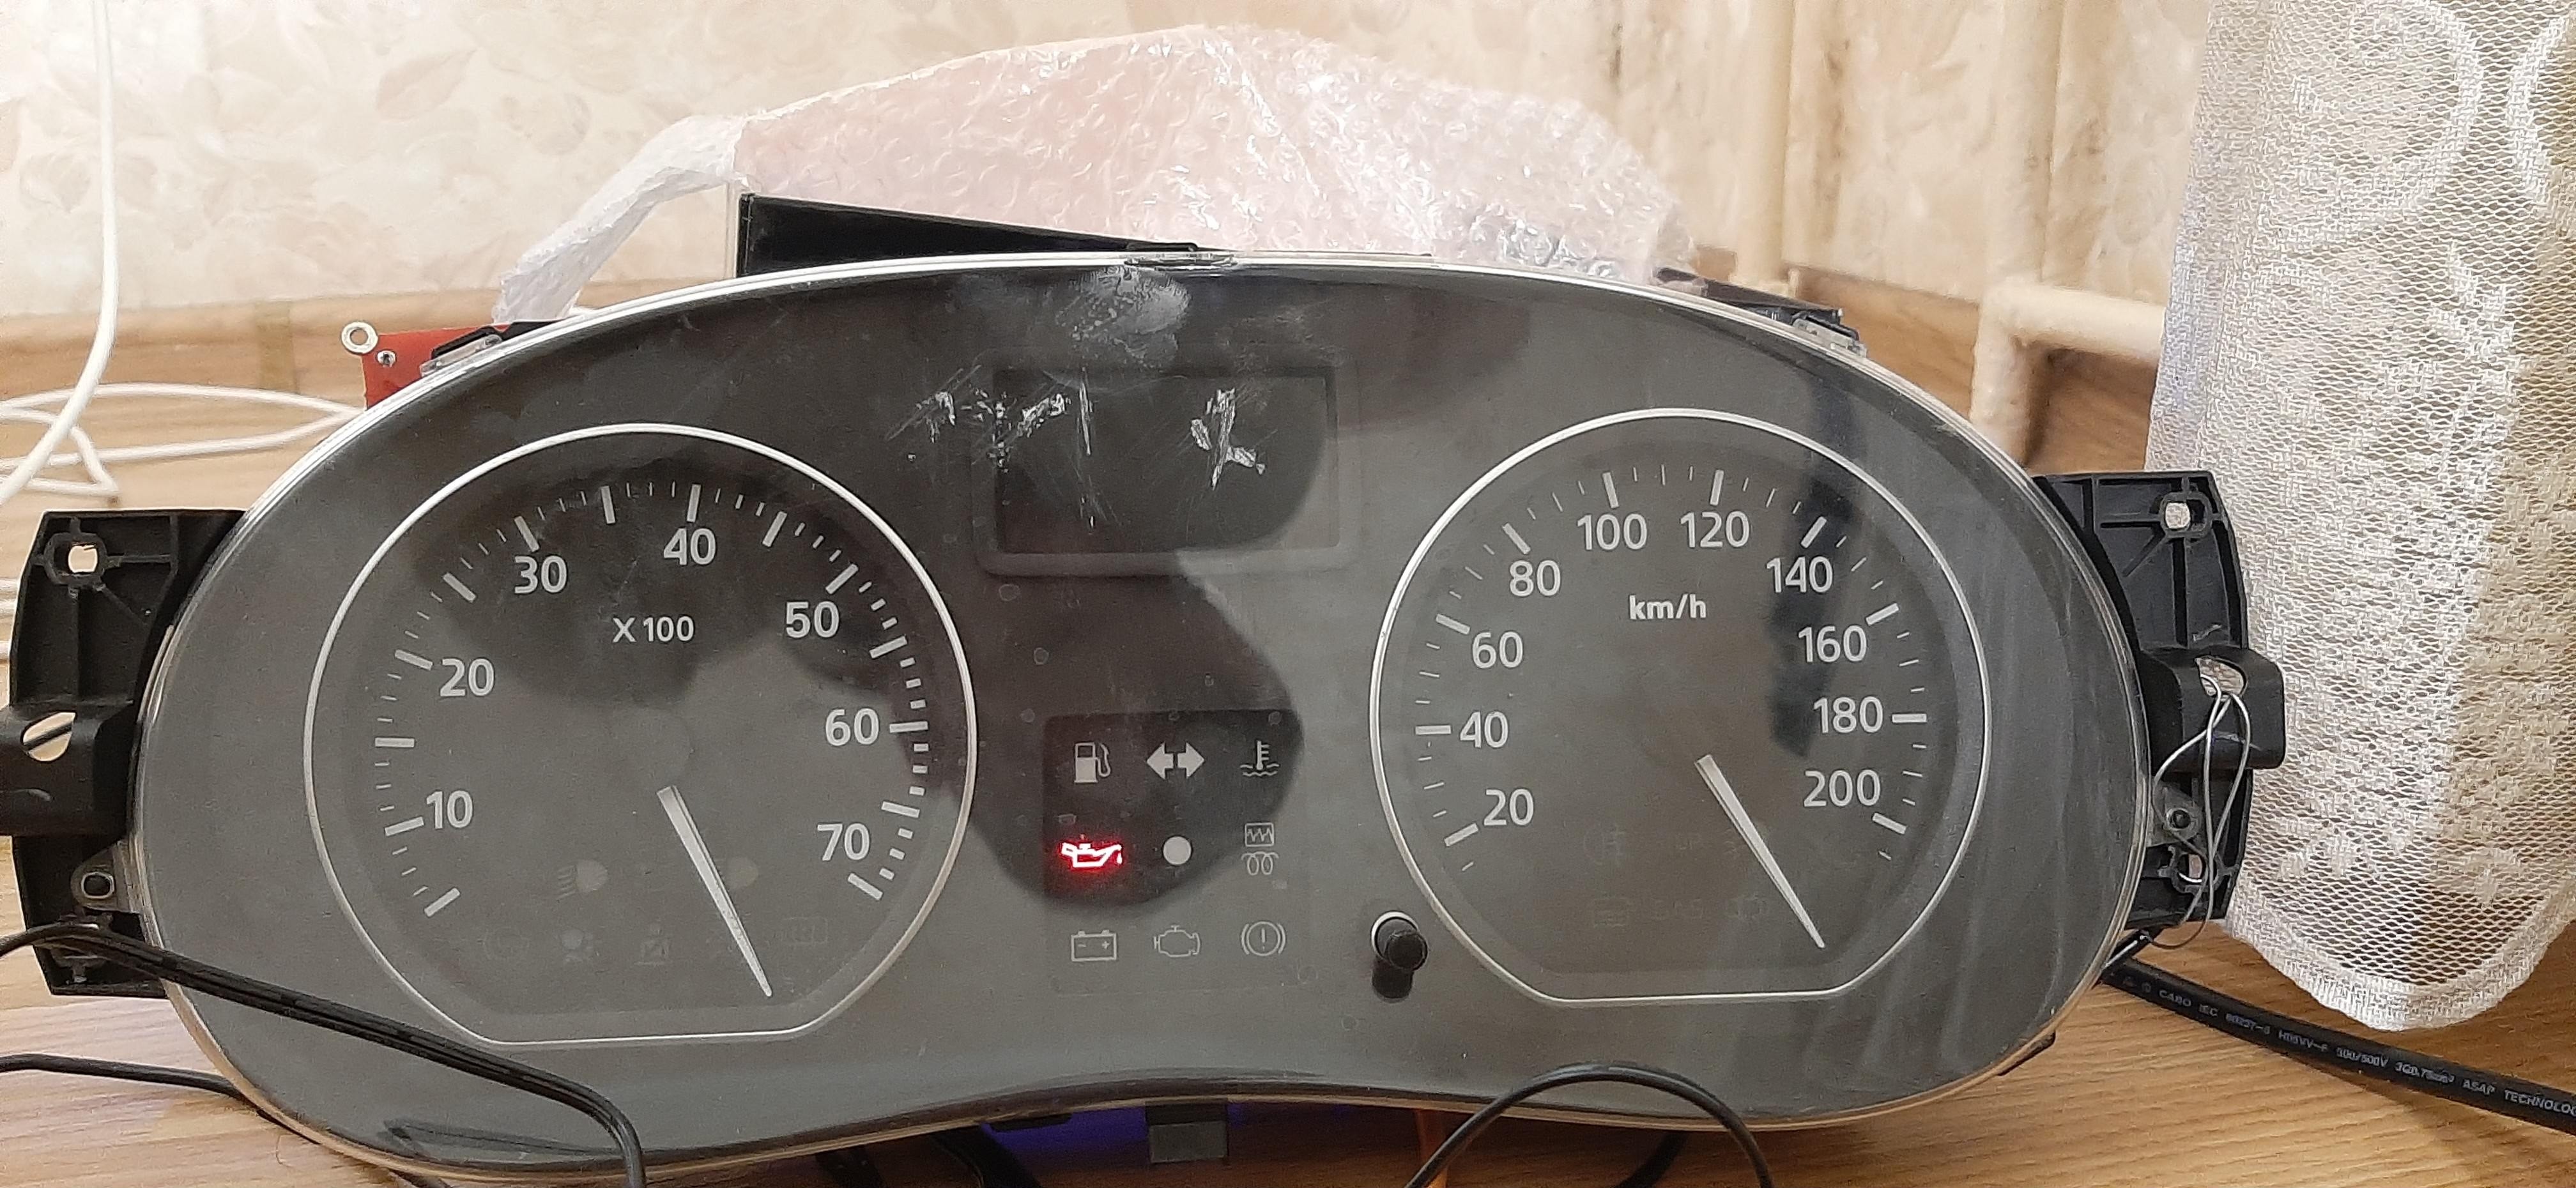oil5: (1056, 838, 1124, 869)
